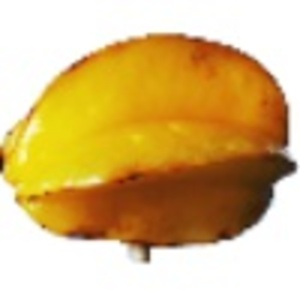carambola: (1, 32, 295, 265)
